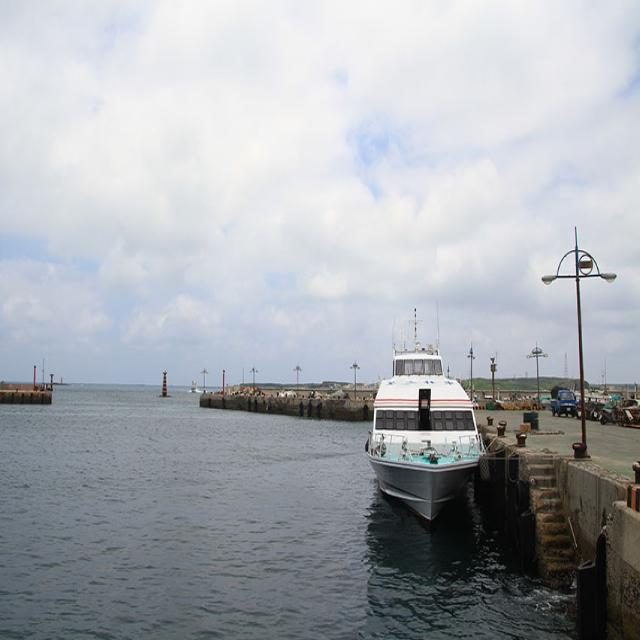houseboat: (366, 330, 484, 517)
